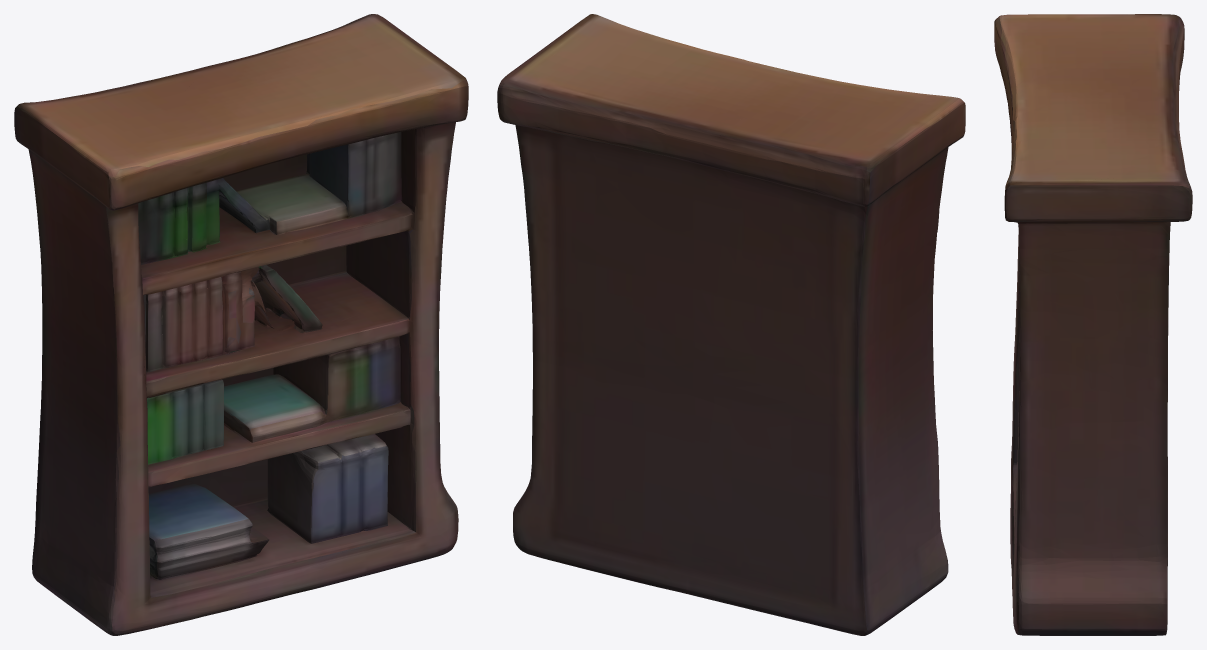
Rendered from bookcase2.glb.
3 renders of one model, left to right at view 1: azimuth 30°, elevation 25°; view 2: azimuth 150°, elevation 25°; view 3: azimuth 270°, elevation 25°, orthographic. The views are drawn at different scales.
Parts seen in each view (by area): view 1: world; view 2: world; view 3: world.
Part boxes in pixels (x1,y1,x2,y2): world: (14,14,468,635); world: (497,14,965,635); world: (994,14,1192,635).
Bounding box in the file's own units: 0.8032 × 1 × 0.3914.
1 material, 1 textured.
